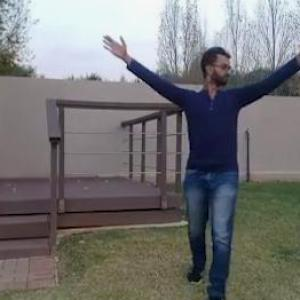takeoff: (102, 31, 300, 299)
